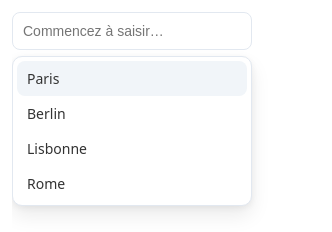
Test: <AutoComplete /> › Escape ferme la liste
In the dropdown: (132,31) 12,12 -> 252,50, type "o"
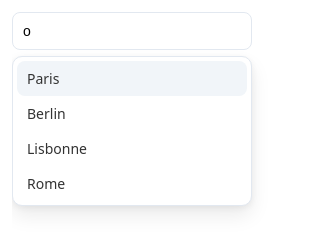
Expected: the list is shown, 12,56 -> 252,206
Press Escape in the dropdown, box 12,12 -> 252,50
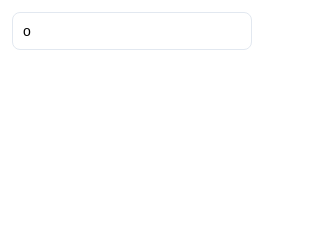
Now the list is gone
